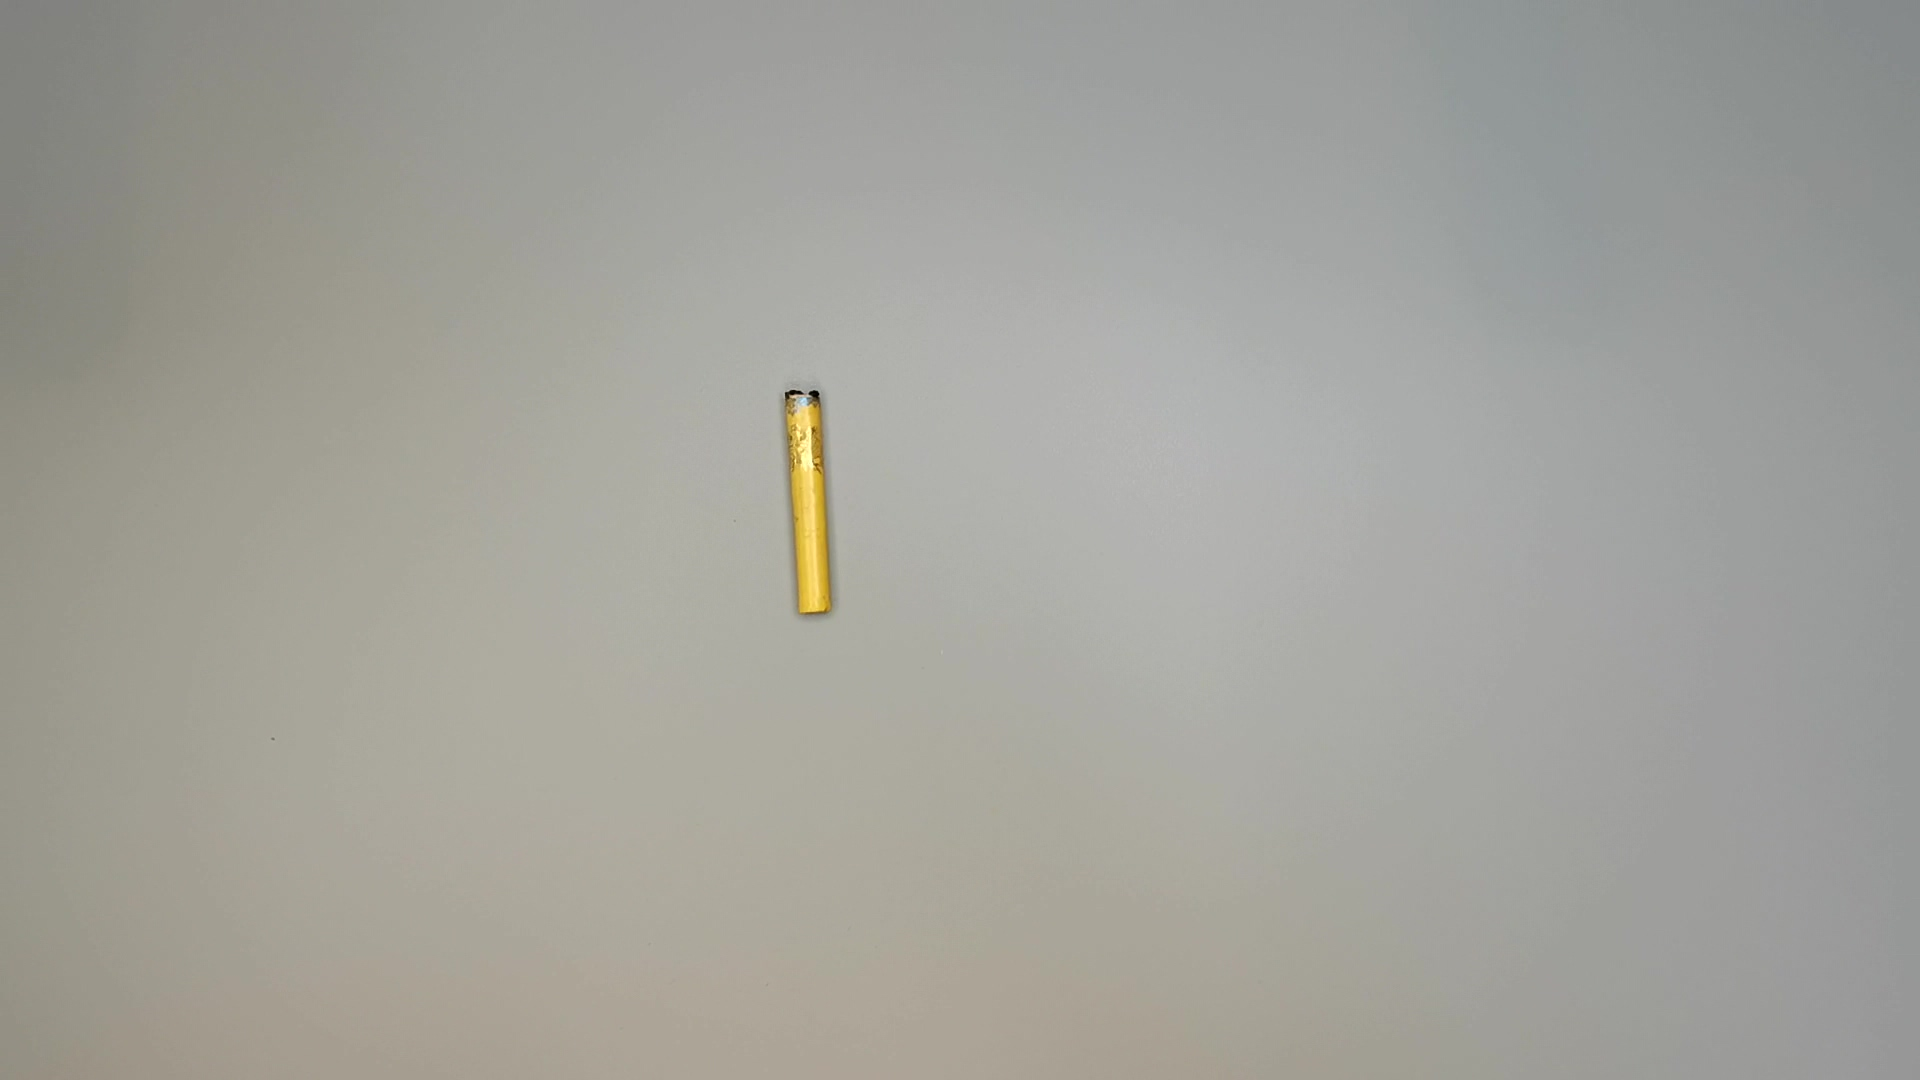cigarette: (771, 386, 851, 632)
